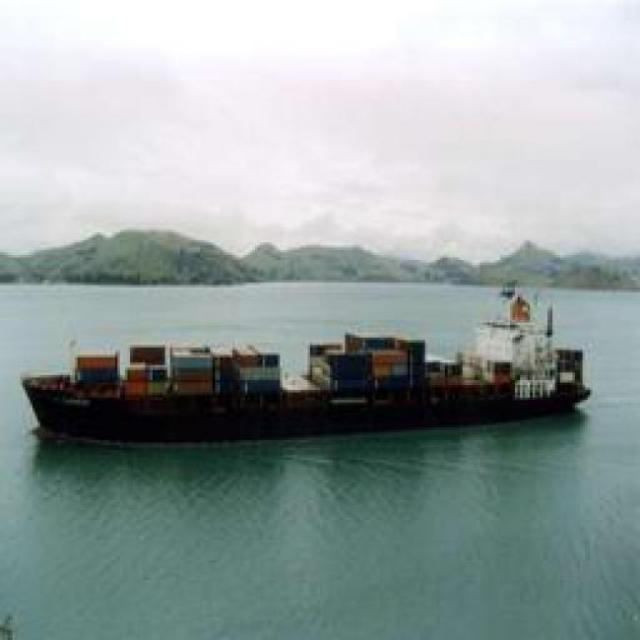boat: (14, 311, 604, 440)
